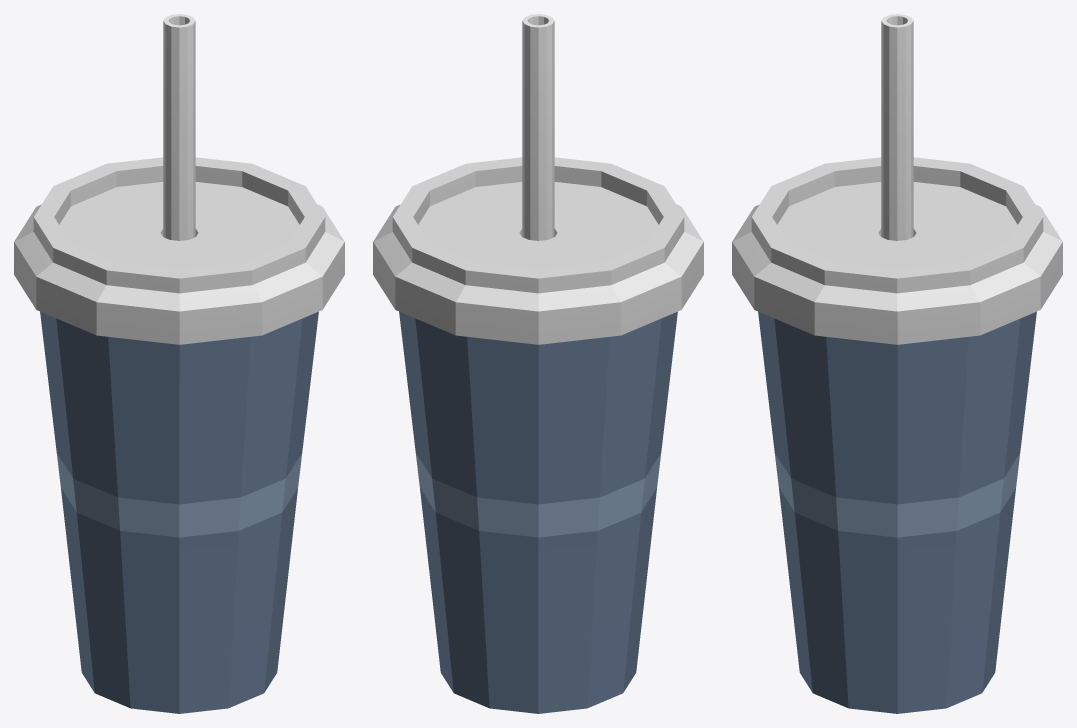
File: Cup_05.fbx
The picture shows the model from 3 angles, left to right: view 1: azimuth 30°, elevation 25°; view 2: azimuth 150°, elevation 25°; view 3: azimuth 270°, elevation 25°; orthographic projection.
Parts seen in each view (by area): view 1: Cup_05; view 2: Cup_05; view 3: Cup_05.
Part boxes in pixels (x1,y1,x2,y2): Cup_05: (14, 14, 344, 713); Cup_05: (373, 14, 703, 713); Cup_05: (732, 14, 1062, 713).
Size of the model in its own units: 14.66 by 31.88 by 14.66.
